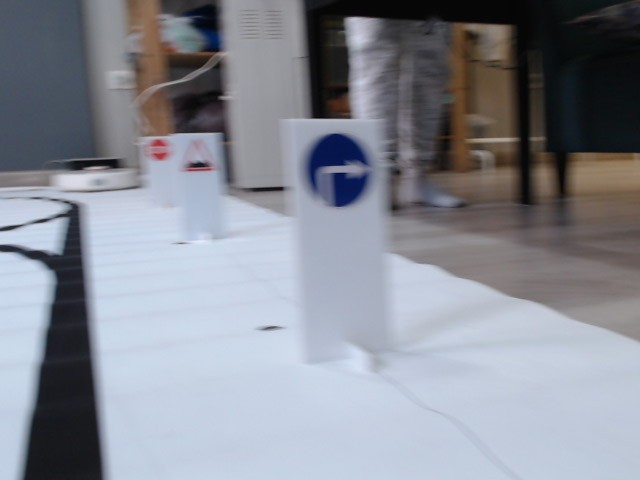Nerov: (180, 140, 222, 174)
Right: (305, 129, 371, 205)
